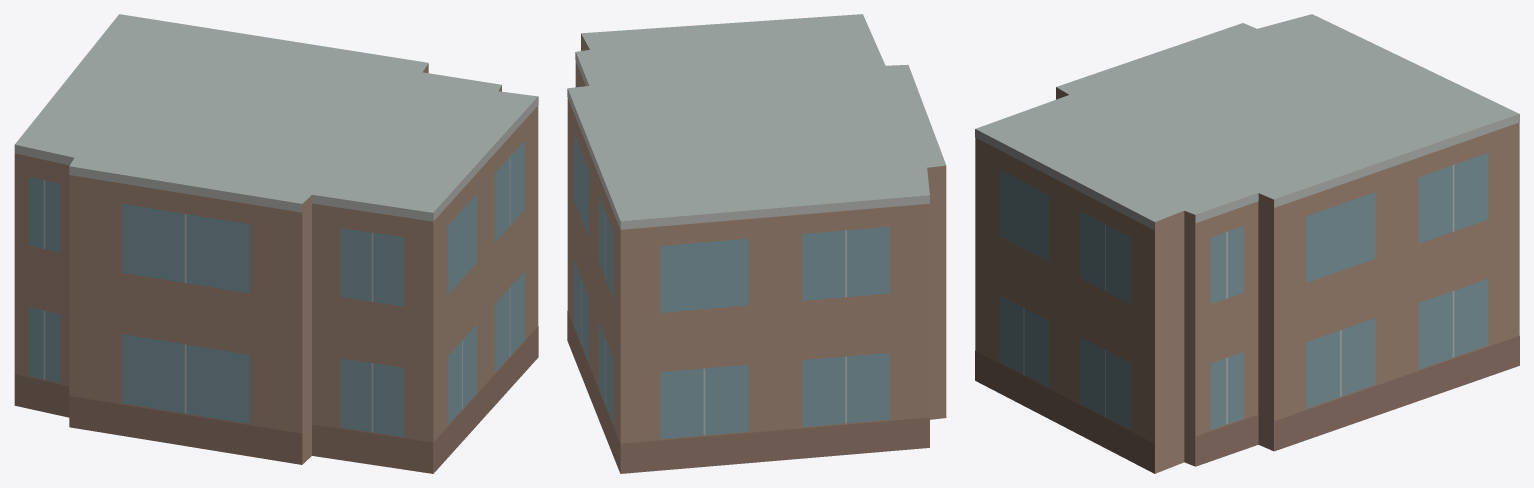
Rendered from survey-upis-32502891.glb.
3 renders of one model, left to right at view 1: azimuth 30°, elevation 25°; view 2: azimuth 150°, elevation 25°; view 3: azimuth 270°, elevation 25°, orthographic. The views are drawn at different scales.
Visible parts, largest first — view 1: survey-upis-32502891.tmp; view 2: survey-upis-32502891.tmp; view 3: survey-upis-32502891.tmp.
Part boxes in pixels (x1,y1,x2,y2): survey-upis-32502891.tmp: (14, 14, 538, 473); survey-upis-32502891.tmp: (567, 14, 946, 473); survey-upis-32502891.tmp: (975, 14, 1519, 473).
Bounding box in the file's own units: 12.95 × 7.3 × 14.32.
